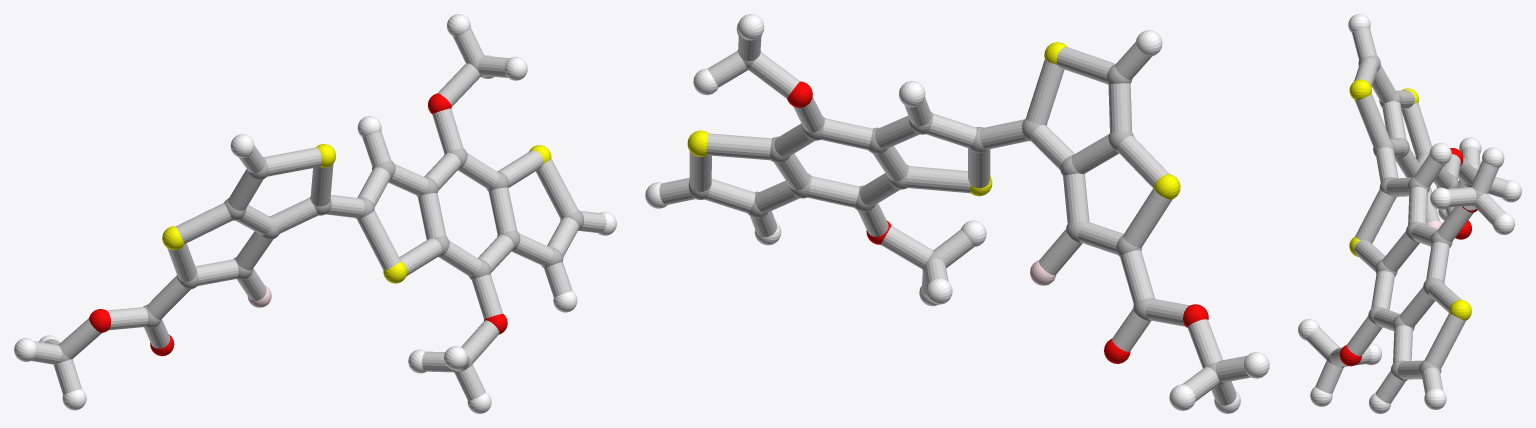
Rendered from color.glb.
3 views of the same model, side by side, from view 1: azimuth 30°, elevation 25°; view 2: azimuth 150°, elevation 25°; view 3: azimuth 270°, elevation 25° (orthographic). The views are drawn at different scales.
Parts seen in each view (by area): view 1: grp15205, grp8689, grp1, grp7241, grp13395; view 2: grp15205, grp8689, grp1, grp13395, grp7241; view 3: grp15205, grp8689, grp1, grp7241, grp13395.
Boxes of the visible parts, x1,y1,x2,y2 form: grp15205: [31, 28, 606, 400]; grp8689: [14, 14, 616, 413]; grp1: [57, 55, 583, 372]; grp7241: [162, 144, 551, 283]; grp13395: [89, 93, 507, 356]; grp15205: [659, 33, 1250, 405]; grp8689: [645, 14, 1269, 413]; grp1: [688, 49, 1224, 385]; grp13395: [787, 81, 1208, 363]; grp7241: [687, 42, 1180, 199]; grp15205: [1307, 28, 1507, 403]; grp8689: [1298, 14, 1521, 413]; grp1: [1326, 55, 1483, 380]; grp7241: [1349, 79, 1471, 320]; grp13395: [1339, 148, 1477, 366].
Bounding box in the file's own units: 16.68 × 8.66 × 6.
